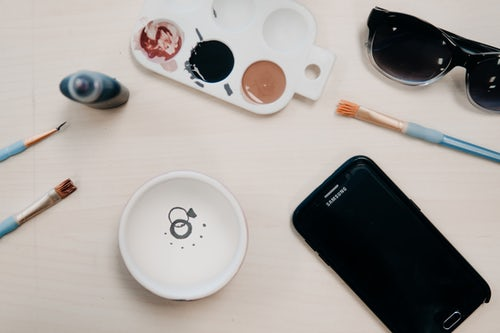phone: (292, 155, 494, 333)
